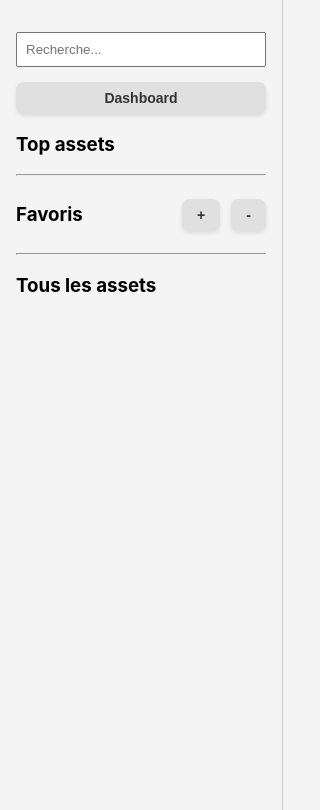
Test: Sidebar.jsx › affiche 'Aucun résultat' si la recherche ne trouve rien
This screenshot has width=320, height=810.
Step 1. Type "XXXXXXXXXXX" into the search field with placeholder "Recherche..." → [141, 50], box [16,32,266,67]
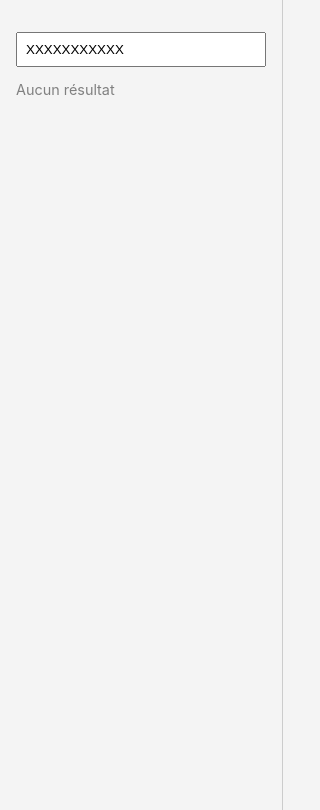
Now the text "Aucun résultat" is shown, box [16,81,115,98]
